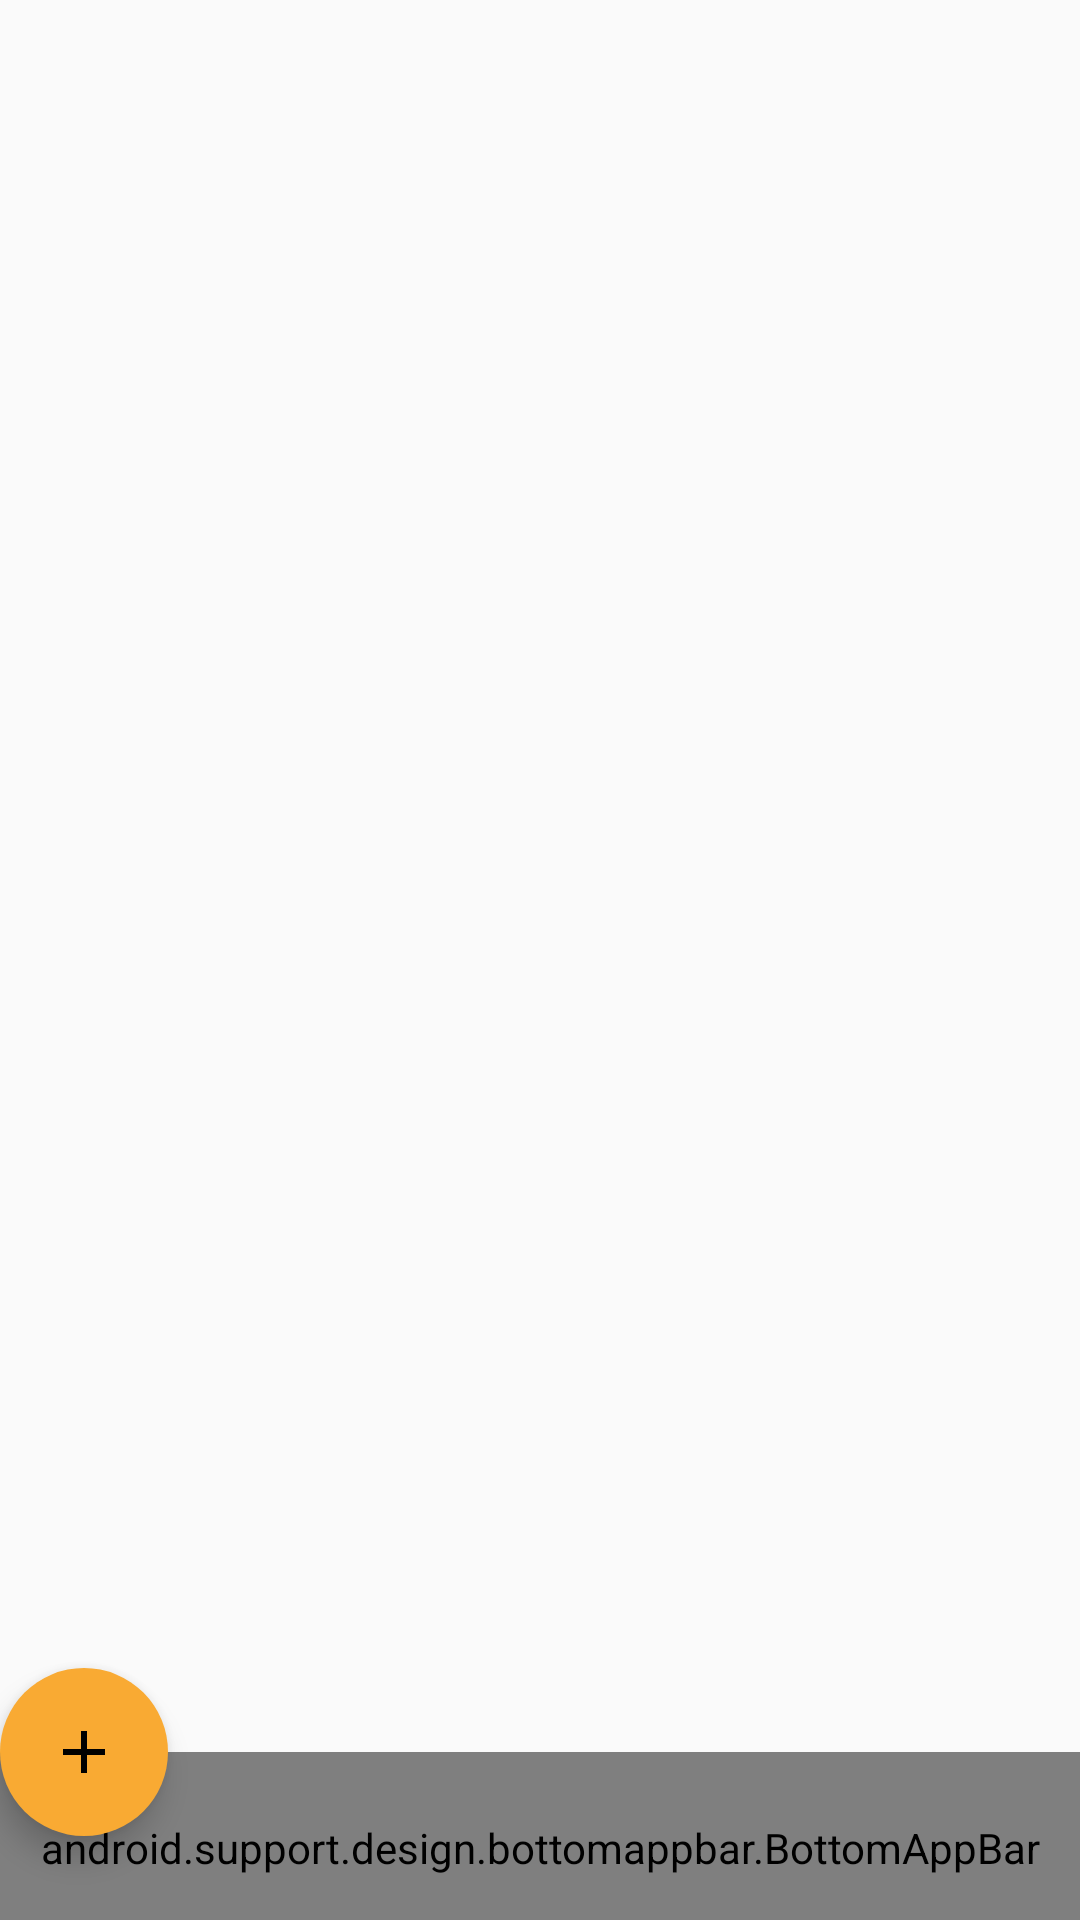

Where to tap for icons on this 1080px x 1920px app screen, as (x,y):
add: (84,1752)
